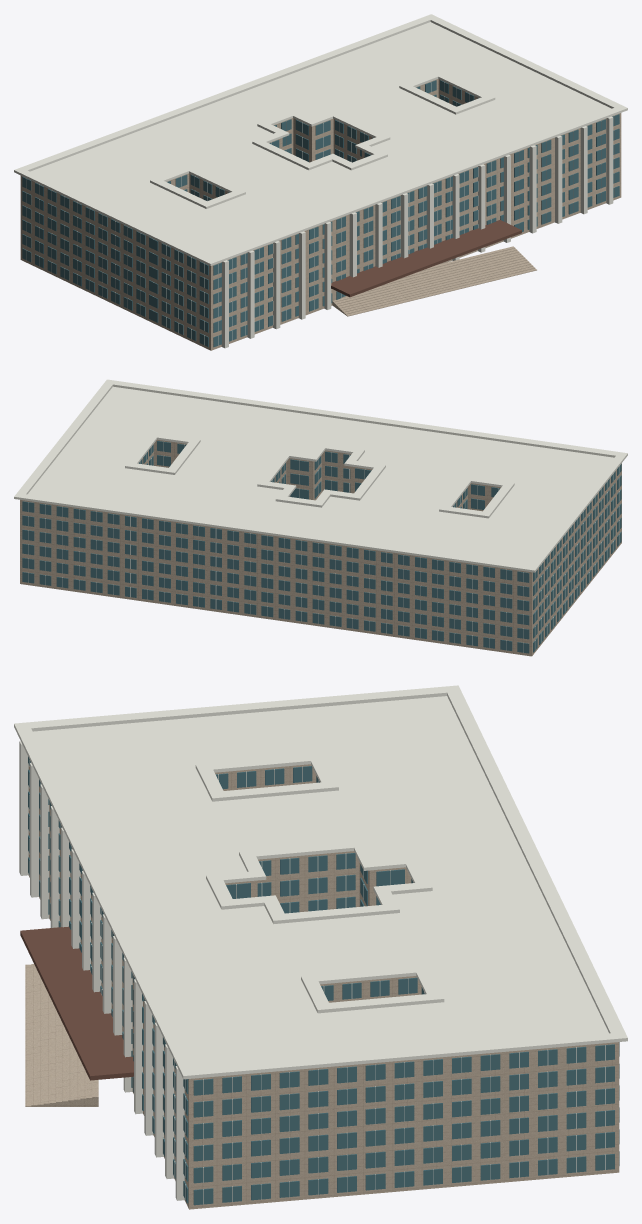
File: teaching-six.glb
The picture shows the model from 3 angles, top to bottom: view 1: azimuth 30°, elevation 25°; view 2: azimuth 150°, elevation 25°; view 3: azimuth 270°, elevation 25°; orthographic projection. The views are drawn at different scales.
Visible parts, largest first — view 1: landmark-teaching-six; view 2: landmark-teaching-six; view 3: landmark-teaching-six.
Part boxes in pixels (<box>): landmark-teaching-six: <box>14,14,627,350</box>; landmark-teaching-six: <box>14,379,627,656</box>; landmark-teaching-six: <box>14,685,627,1209</box>.
Size of the model in its own units: 126 by 20.65 by 83.82.
Materials: 4 (1 with a texture image).
